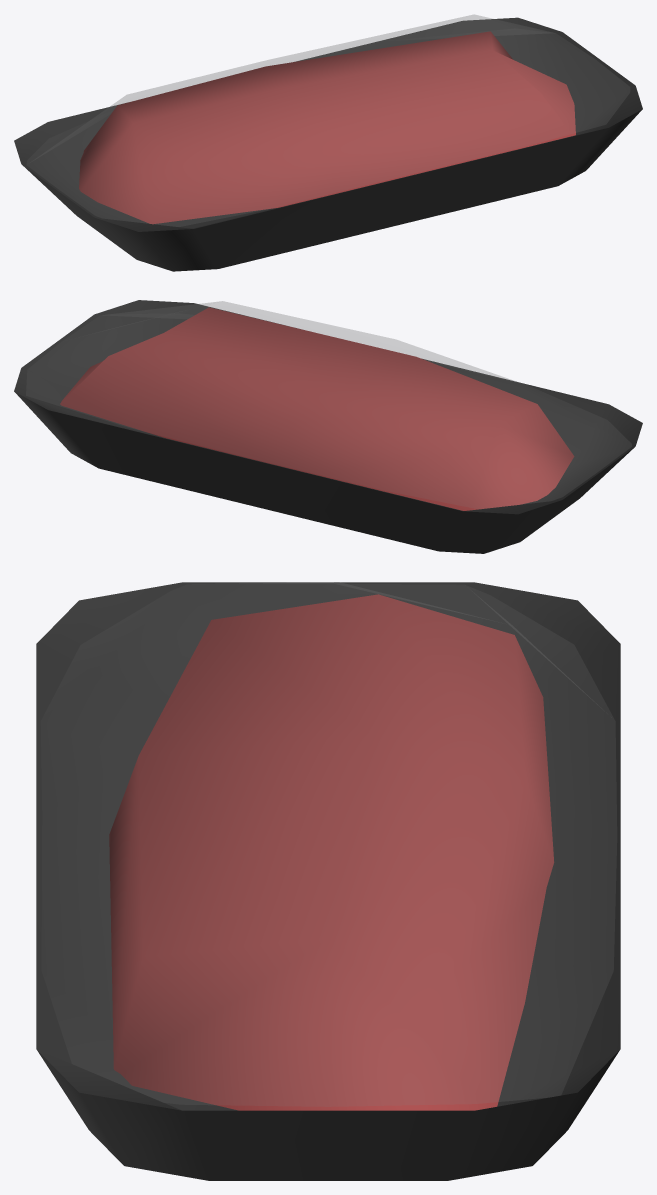
The model's file is SteakPacking.fbx.
3 views of the same model, one above another, from view 1: azimuth 30°, elevation 25°; view 2: azimuth 150°, elevation 25°; view 3: azimuth 270°, elevation 25° (orthographic). The views are drawn at different scales.
Visible parts, largest first — view 1: PlasticWrap, Steak, Packaging; view 2: PlasticWrap, Steak, Packaging; view 3: PlasticWrap, Steak, Packaging.
Boxes of the visible parts, x1,y1,x2,y2 form: PlasticWrap: (27, 14, 629, 226); Steak: (79, 31, 575, 224); Packaging: (14, 17, 642, 271); PlasticWrap: (26, 301, 631, 508); Steak: (60, 307, 574, 510); Packaging: (14, 300, 642, 553); PlasticWrap: (41, 582, 616, 1106); Steak: (109, 594, 554, 1110); Packaging: (36, 582, 620, 1180).
Size of the model in its own units: 2.14 by 0.393 by 1.
